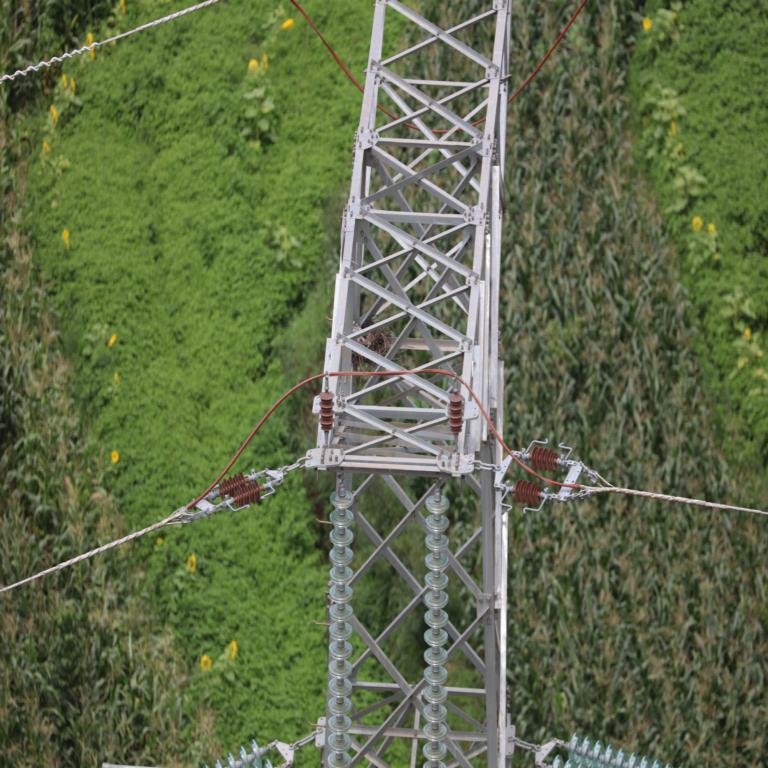nest: (346, 323, 394, 363)
